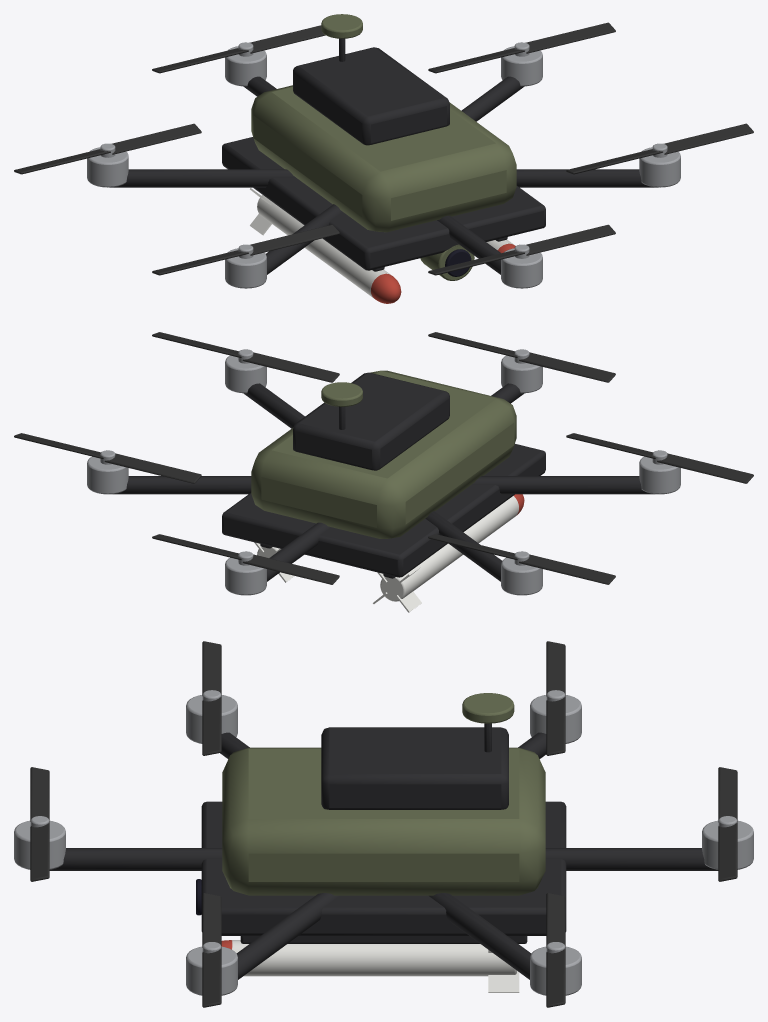
The model's file is Drone_Strike.fbx.
3 renders of one model, top to bottom at view 1: azimuth 30°, elevation 25°; view 2: azimuth 150°, elevation 25°; view 3: azimuth 270°, elevation 25°, orthographic. The views are drawn at different scales.
Parts seen in each view (by area): view 1: Shell, Frame, Battery, Arm_2, Missile_-1, Arm_5, Prop_5, Prop_0, Prop_3, Prop_4, Prop_2, Prop_1 (+12 smaller); view 2: Shell, Frame, Battery, Arm_3, Missile_-1, Arm_0, Prop_1, Prop_4, Prop_5, Prop_2, Prop_0, Prop_3 (+10 smaller); view 3: Shell, Battery, Frame, Missile_1, Arm_1, Arm_4, Arm_0, Arm_5, Prop_0, Prop_2, Prop_3, Prop_5 (+10 smaller).
Part boxes in pixels (box(x1,y1,x2,y2)): Shell: box(251, 85, 516, 232); Frame: box(222, 137, 545, 270); Battery: box(293, 47, 449, 145); Arm_2: box(109, 169, 295, 187); Missile_-1: box(257, 195, 391, 298); Arm_5: box(516, 169, 658, 187); Prop_5: box(566, 123, 753, 174); Prop_0: box(428, 22, 615, 73); Prop_3: box(152, 224, 339, 275); Prop_4: box(428, 224, 615, 275); Prop_2: box(14, 123, 201, 174); Prop_1: box(152, 25, 325, 73); Shell: box(251, 370, 516, 538); Frame: box(222, 444, 545, 577); Battery: box(293, 372, 449, 470); Arm_3: box(471, 476, 654, 494); Missile_-1: box(380, 496, 518, 601); Arm_0: box(113, 476, 251, 494); Prop_1: box(152, 534, 339, 584); Prop_4: box(428, 332, 615, 382); Prop_5: box(152, 332, 339, 382); Prop_2: box(428, 534, 615, 584); Prop_0: box(14, 433, 201, 483); Prop_3: box(566, 433, 753, 483); Shell: box(222, 747, 545, 895); Battery: box(321, 727, 508, 809); Frame: box(201, 801, 566, 935); Missile_1: box(232, 940, 516, 976); Arm_1: box(545, 848, 718, 870); Arm_4: box(49, 848, 222, 870); Arm_0: box(429, 893, 531, 979); Arm_5: box(236, 893, 338, 979); Prop_0: box(546, 893, 565, 1007); Prop_2: box(546, 641, 565, 755); Prop_3: box(202, 641, 221, 755); Prop_5: box(202, 893, 221, 1007).
Bounding box in the file's own units: 1.64 × 0.5119 × 1.42.
